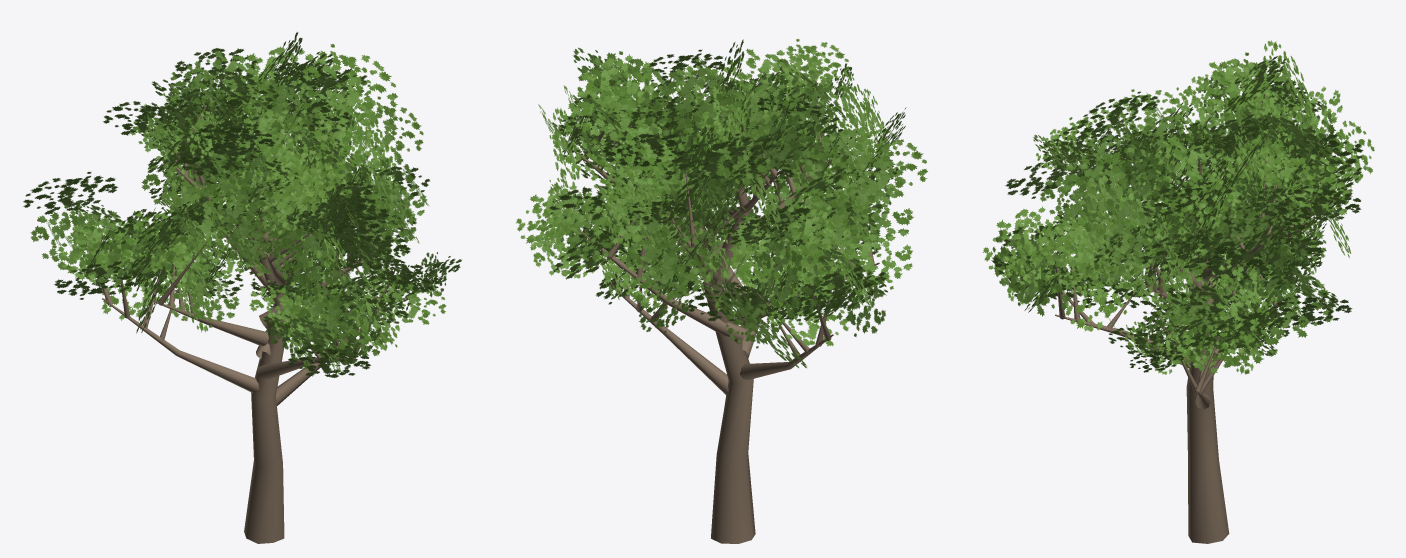
Rendered from maple-79-high.glb.
The picture shows the model from 3 angles, left to right: view 1: azimuth 30°, elevation 25°; view 2: azimuth 150°, elevation 25°; view 3: azimuth 270°, elevation 25°; orthographic projection. The views are drawn at different scales.
Visible parts, largest first — view 1: LeafCards, Wood; view 2: LeafCards, Wood; view 3: LeafCards, Wood.
Part boxes in pixels (x1=…): LeafCards: x1=23, y1=31, x2=461, y2=377; Wood: x1=83, y1=96, x2=398, y2=543; LeafCards: x1=515, y1=39, x2=927, y2=368; Wood: x1=572, y1=104, x2=879, y2=543; LeafCards: x1=982, y1=40, x2=1374, y2=374; Wood: x1=1055, y1=94, x2=1317, y2=543.
Bounding box in the file's own units: 13.16 × 16.34 × 12.94.
Materials: 2 (1 with a texture image).
